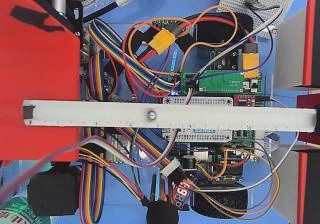ironball: (145, 108, 156, 119)
